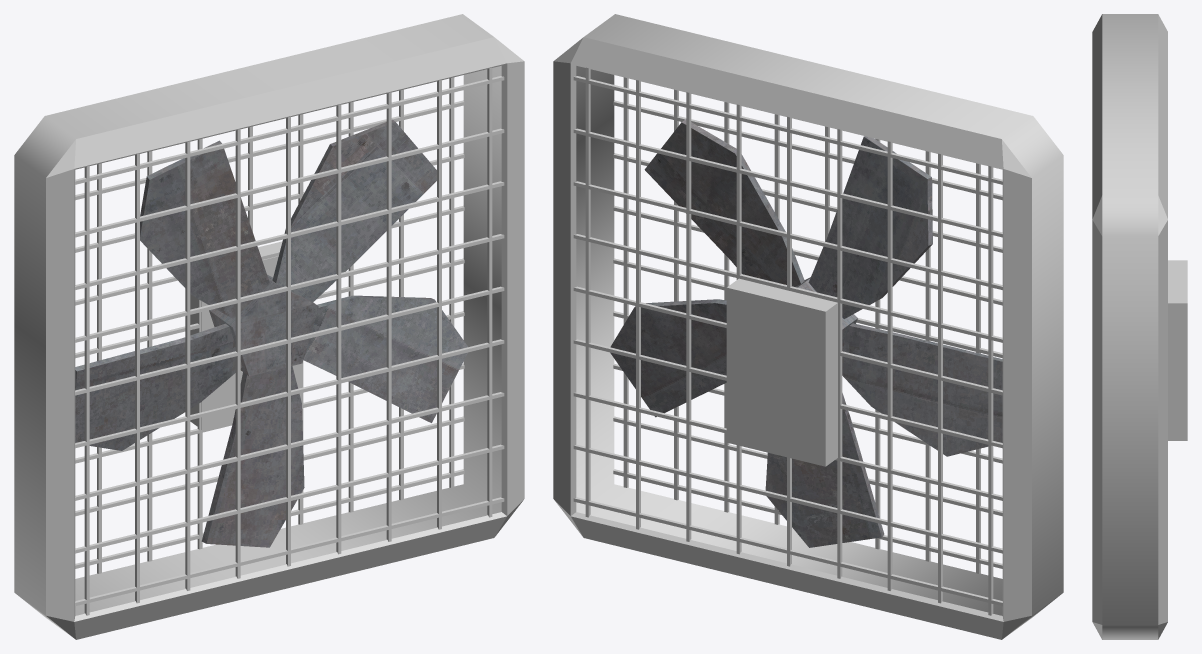
The model's file is item_box_fan.glb.
3 renders of one model, left to right at view 1: azimuth 30°, elevation 25°; view 2: azimuth 150°, elevation 25°; view 3: azimuth 270°, elevation 25°, orthographic. The views are drawn at different scales.
Visible parts, largest first — view 1: FanBody, Blades; view 2: FanBody, Blades; view 3: FanBody.
Part boxes in pixels (x1,y1,x2,y2): FanBody: [14, 14, 524, 639]; Blades: [75, 119, 467, 547]; FanBody: [553, 14, 1063, 639]; Blades: [610, 119, 1002, 547]; FanBody: [1092, 14, 1187, 639].
Size of the model in its own units: 0.5705 by 0.5705 by 0.1107.
2 materials, 1 textured.
